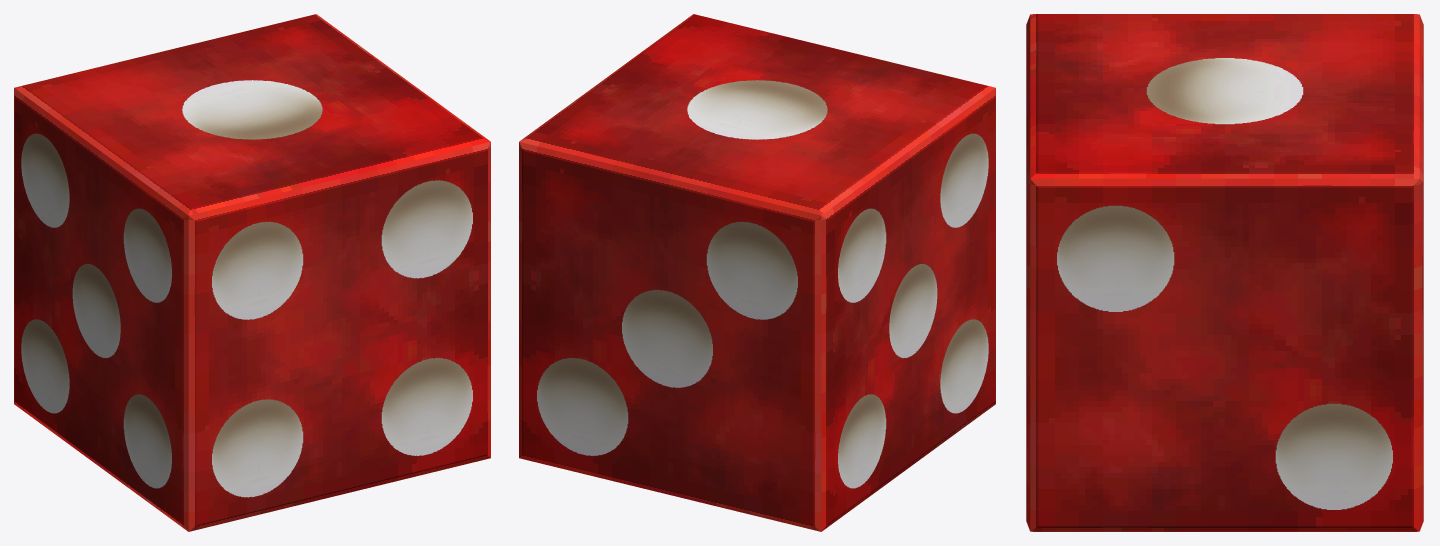
File: dice.obj
3 renders of one model, left to right at view 1: azimuth 30°, elevation 25°; view 2: azimuth 150°, elevation 25°; view 3: azimuth 270°, elevation 25°, orthographic. The views are drawn at different scales.
Visible parts, largest first — view 1: Object_1; view 2: Object_1; view 3: Object_1.
Part boxes in pixels (x1=…): Object_1: x1=14, y1=14, x2=490, y2=531; Object_1: x1=519, y1=14, x2=995, y2=531; Object_1: x1=1026, y1=14, x2=1423, y2=531.
Bounding box in the file's own units: 50.5 × 50.5 × 50.5.
